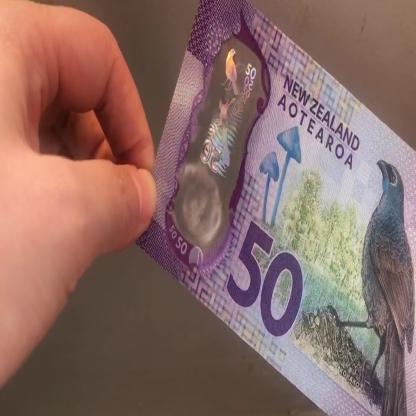50B: (168, 43, 258, 244)
